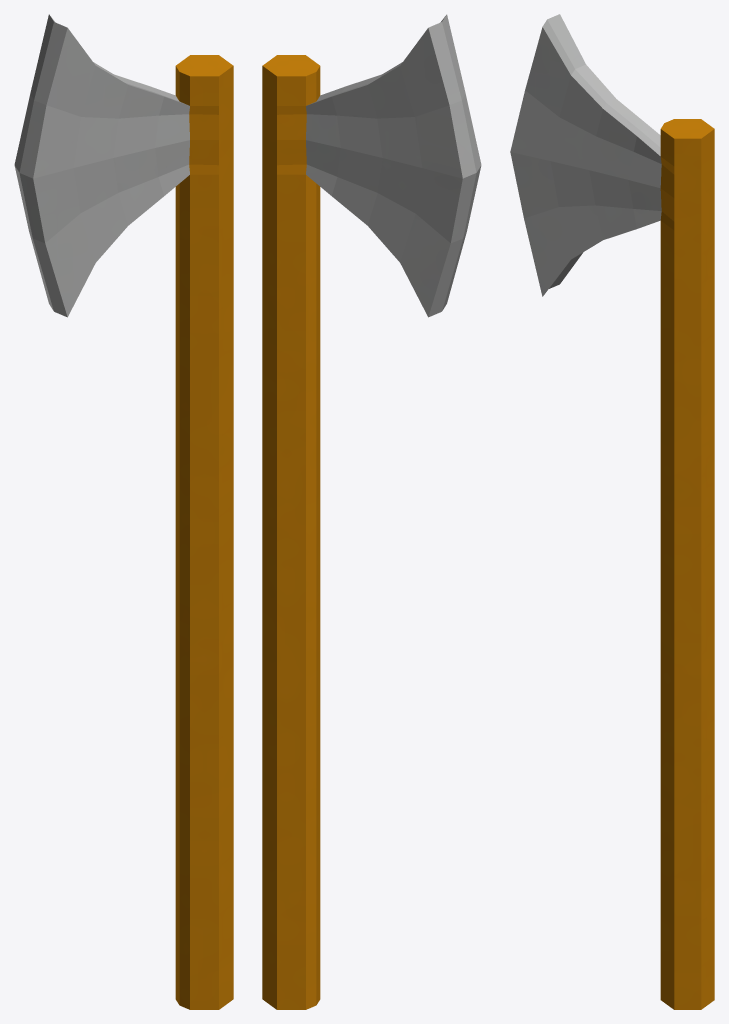
File: Battle_Axe_2.fbx
The picture shows the model from 3 angles, left to right: view 1: azimuth 30°, elevation 25°; view 2: azimuth 150°, elevation 25°; view 3: azimuth 330°, elevation 25°; orthographic projection. The views are drawn at different scales.
Visible parts, largest first — view 1: Battle Axe 2; view 2: Battle Axe 2; view 3: Battle Axe 2.
Part boxes in pixels (x1,y1,x2,y2): Battle Axe 2: (14, 14, 233, 1009); Battle Axe 2: (262, 14, 481, 1009); Battle Axe 2: (510, 14, 714, 1009).
Size of the model in its own units: 15.13 by 70.9 by 3.66.
